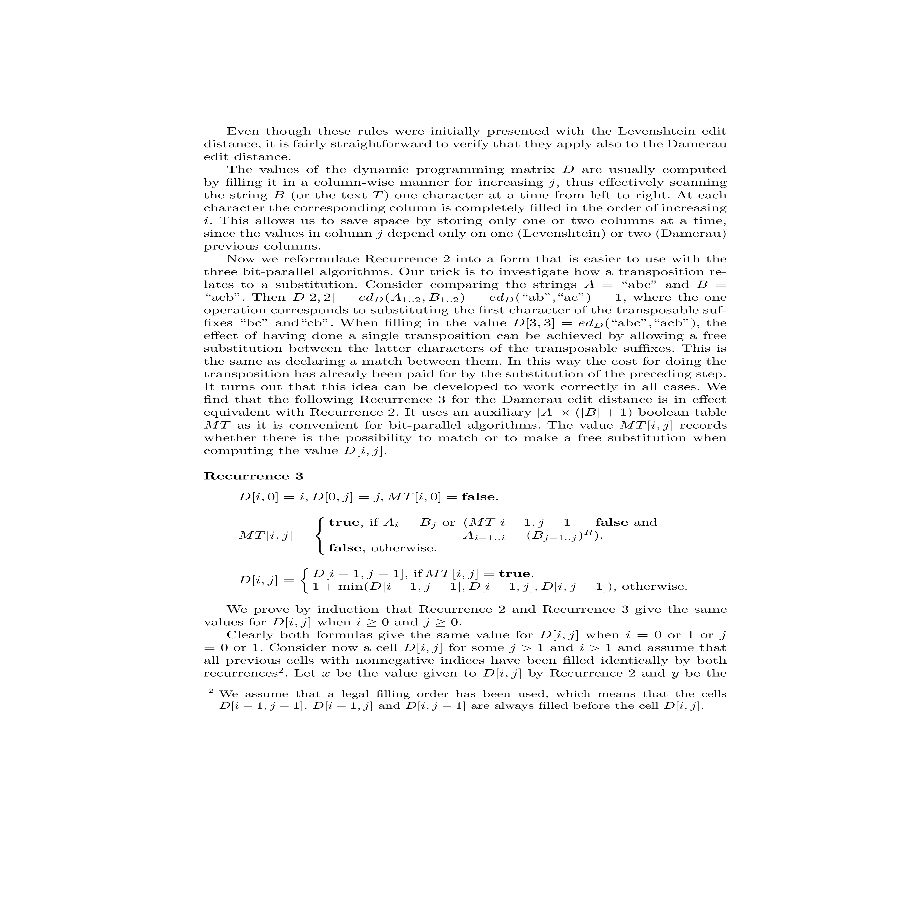eq: (237, 511, 667, 561), (238, 566, 691, 597), (236, 487, 498, 506)
